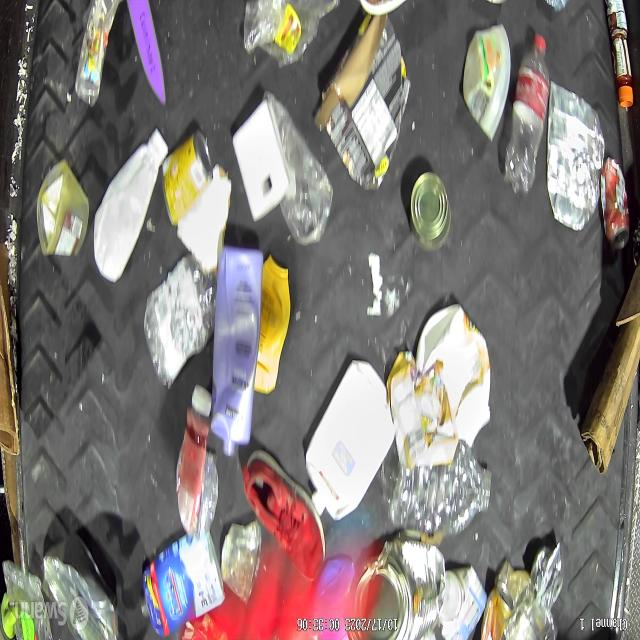can: (161, 129, 210, 226), (408, 168, 448, 248), (600, 158, 630, 250)
milk_jug: (306, 360, 394, 521), (91, 128, 165, 282)
non_white_jug: (210, 246, 264, 458), (416, 303, 490, 450), (253, 253, 290, 394)
plastic_bottle: (143, 256, 217, 388), (380, 457, 492, 538), (504, 35, 550, 195), (75, 0, 122, 106)
